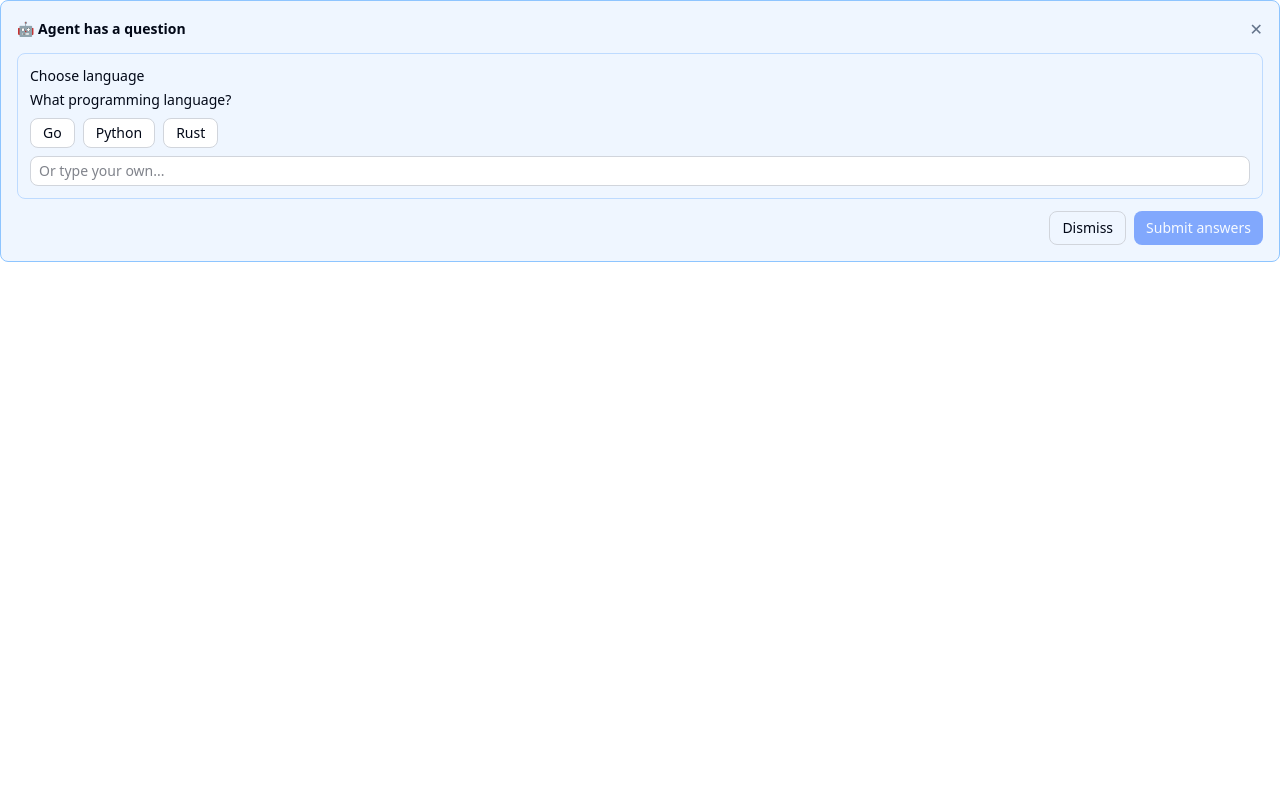
Test case: QuestionPrompt › custom text input counts as answer
Type "TypeScript" into the field with placeholder "Or type your own..." at (640, 171), box [30, 156, 1250, 186]
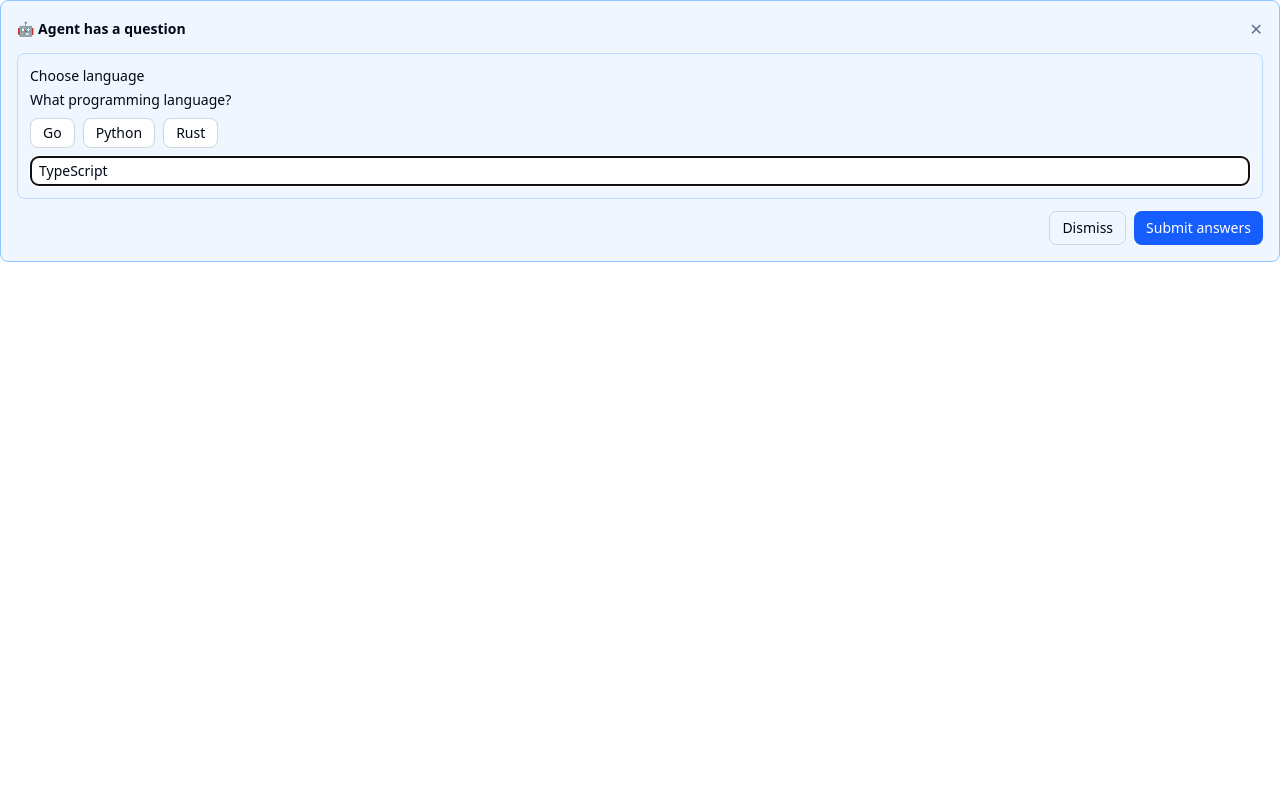
Expected: the button "Submit answers" is enabled, [1134, 211, 1263, 245]
